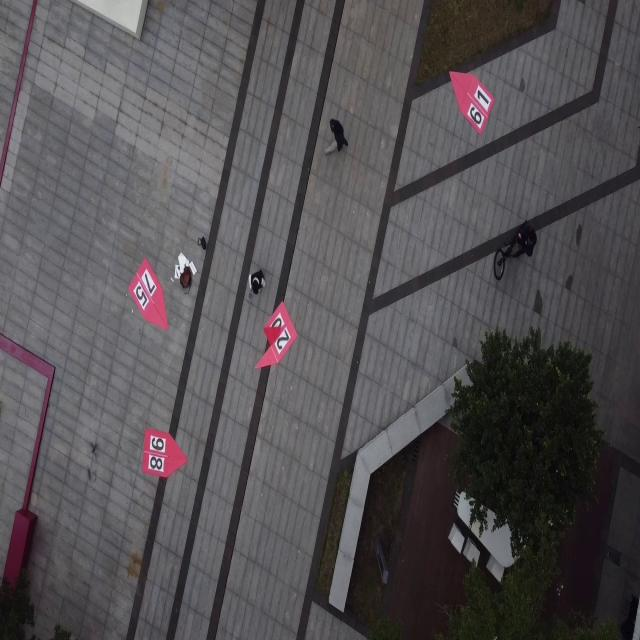-sign-: (254, 300, 298, 370), (128, 258, 169, 332), (450, 70, 494, 136), (142, 430, 187, 479)
